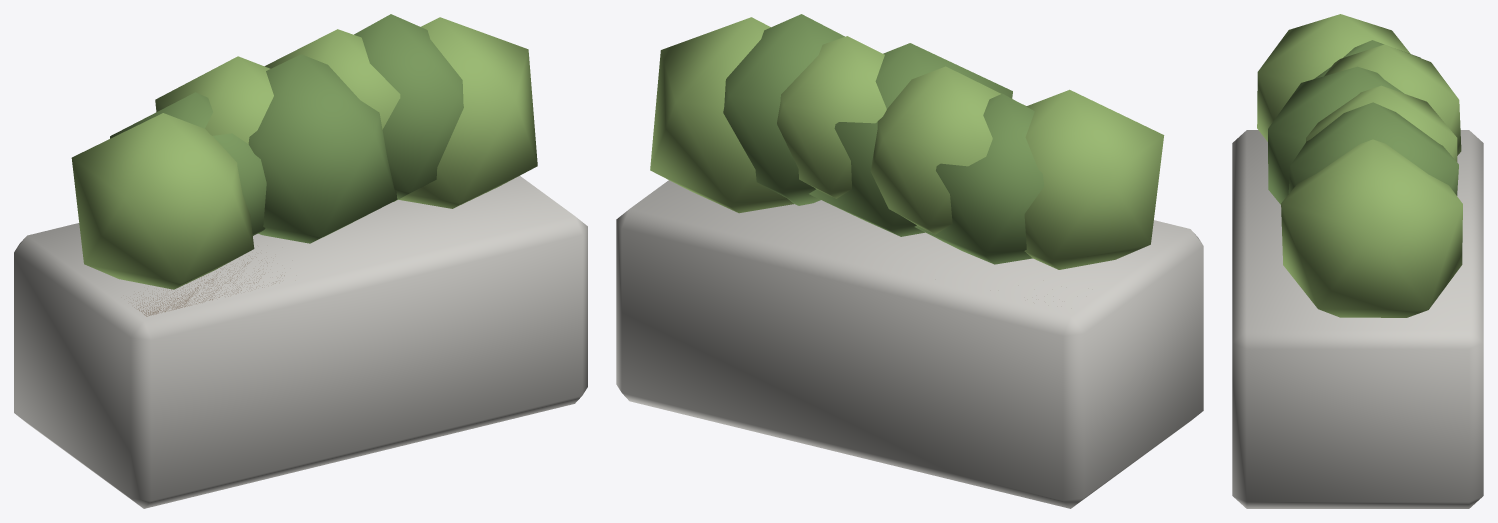
The model's file is planter.glb.
3 renders of one model, left to right at view 1: azimuth 30°, elevation 25°; view 2: azimuth 150°, elevation 25°; view 3: azimuth 270°, elevation 25°, orthographic. The views are drawn at different scales.
Parts seen in each view (by area): view 1: planter; view 2: planter; view 3: planter.
Boxes of the visible parts, x1,y1,x2,y2 form: planter: (14, 14, 587, 508); planter: (616, 14, 1203, 508); planter: (1232, 14, 1483, 508).
Size of the model in its own units: 1.42 by 1.08 by 0.7.
